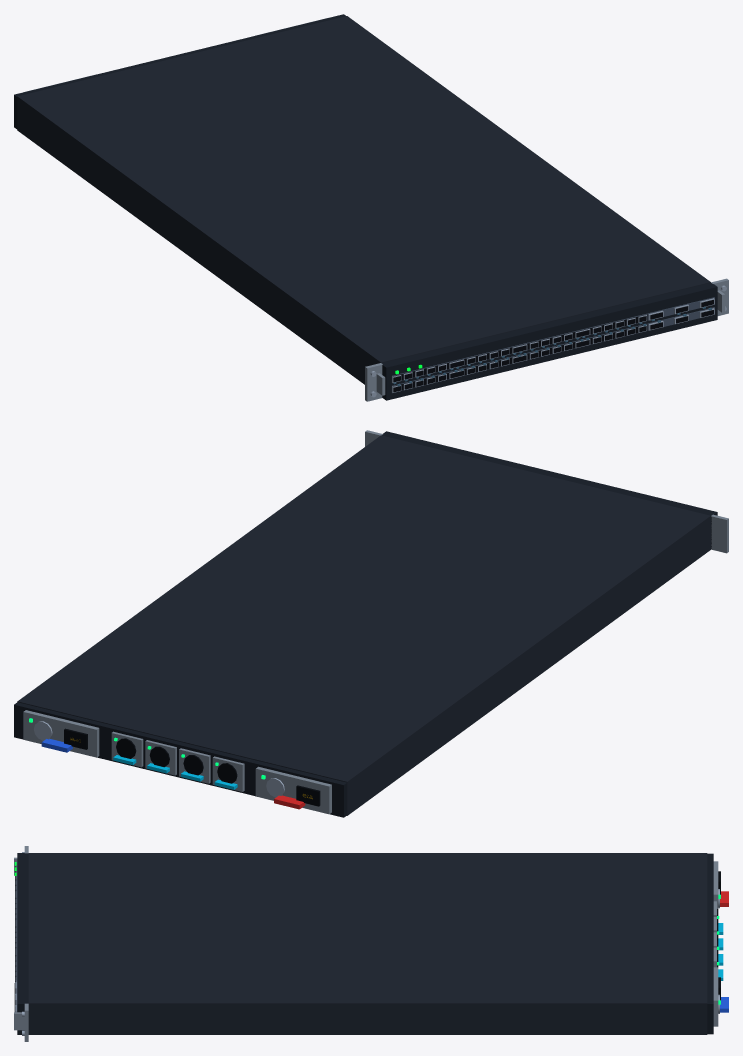
The model's file is cisco_nexus_93180yc_fx3.glb.
The picture shows the model from 3 angles, top to bottom: view 1: azimuth 30°, elevation 25°; view 2: azimuth 150°, elevation 25°; view 3: azimuth 270°, elevation 25°; orthographic projection. The views are drawn at different scales.
Parts seen in each view (by area): view 1: BATCH_MAT_CHASSIS_BODY, BATCH_MAT_FACEPLATE, BATCH_MAT_CAVITY_DARK, BATCH_MAT_PORT_SHIELD, BATCH_MAT_NEXUS_BEZEL, BATCH_MAT_RACK_EAR; view 2: BATCH_MAT_CHASSIS_BODY, BATCH_MAT_FACEPLATE, BATCH_MAT_RACK_EAR, BATCH_MAT_CAVITY_DARK; view 3: BATCH_MAT_CHASSIS_BODY, BATCH_MAT_FACEPLATE, BATCH_MAT_RACK_EAR, BATCH_MAT_CAVITY_DARK, BATCH_MAT_PORT_SHIELD.
Boxes of the visible parts, x1,y1,x2,y2 form: BATCH_MAT_CHASSIS_BODY: (17, 16, 710, 384); BATCH_MAT_FACEPLATE: (14, 14, 717, 400); BATCH_MAT_CAVITY_DARK: (393, 300, 713, 392); BATCH_MAT_PORT_SHIELD: (370, 285, 726, 397); BATCH_MAT_NEXUS_BEZEL: (391, 297, 714, 393); BATCH_MAT_RACK_EAR: (25, 17, 728, 401); BATCH_MAT_CHASSIS_BODY: (17, 435, 710, 815); BATCH_MAT_FACEPLATE: (14, 431, 717, 817); BATCH_MAT_RACK_EAR: (23, 430, 728, 814); BATCH_MAT_CAVITY_DARK: (64, 728, 320, 806); BATCH_MAT_CHASSIS_BODY: (28, 853, 707, 1034); BATCH_MAT_FACEPLATE: (17, 853, 713, 1034); BATCH_MAT_RACK_EAR: (14, 846, 718, 1041); BATCH_MAT_CAVITY_DARK: (14, 866, 720, 1011); BATCH_MAT_PORT_SHIELD: (15, 852, 719, 1035).
Bounding box in the file's own units: 0.4826 × 0.0435 × 0.885.
